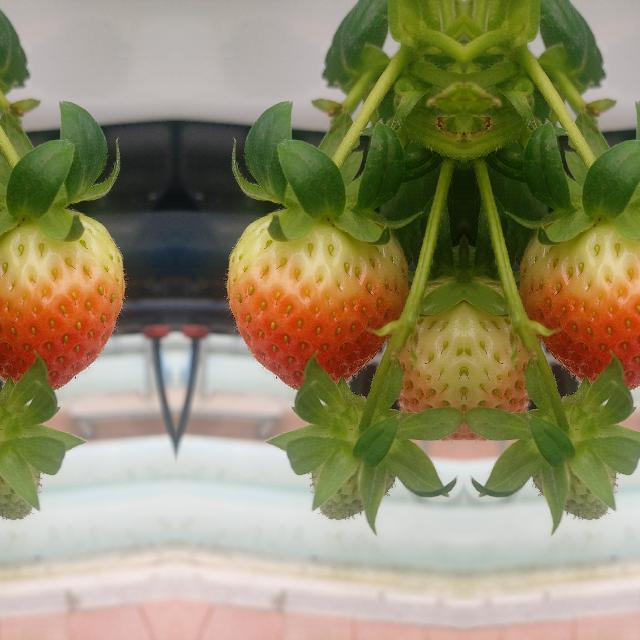Health_25: (302, 416, 398, 522), (528, 416, 624, 522), (0, 415, 48, 522)
Health_50: (396, 266, 462, 424), (464, 266, 530, 424)
Health_75: (226, 208, 407, 390), (0, 208, 124, 389), (519, 208, 640, 389)
